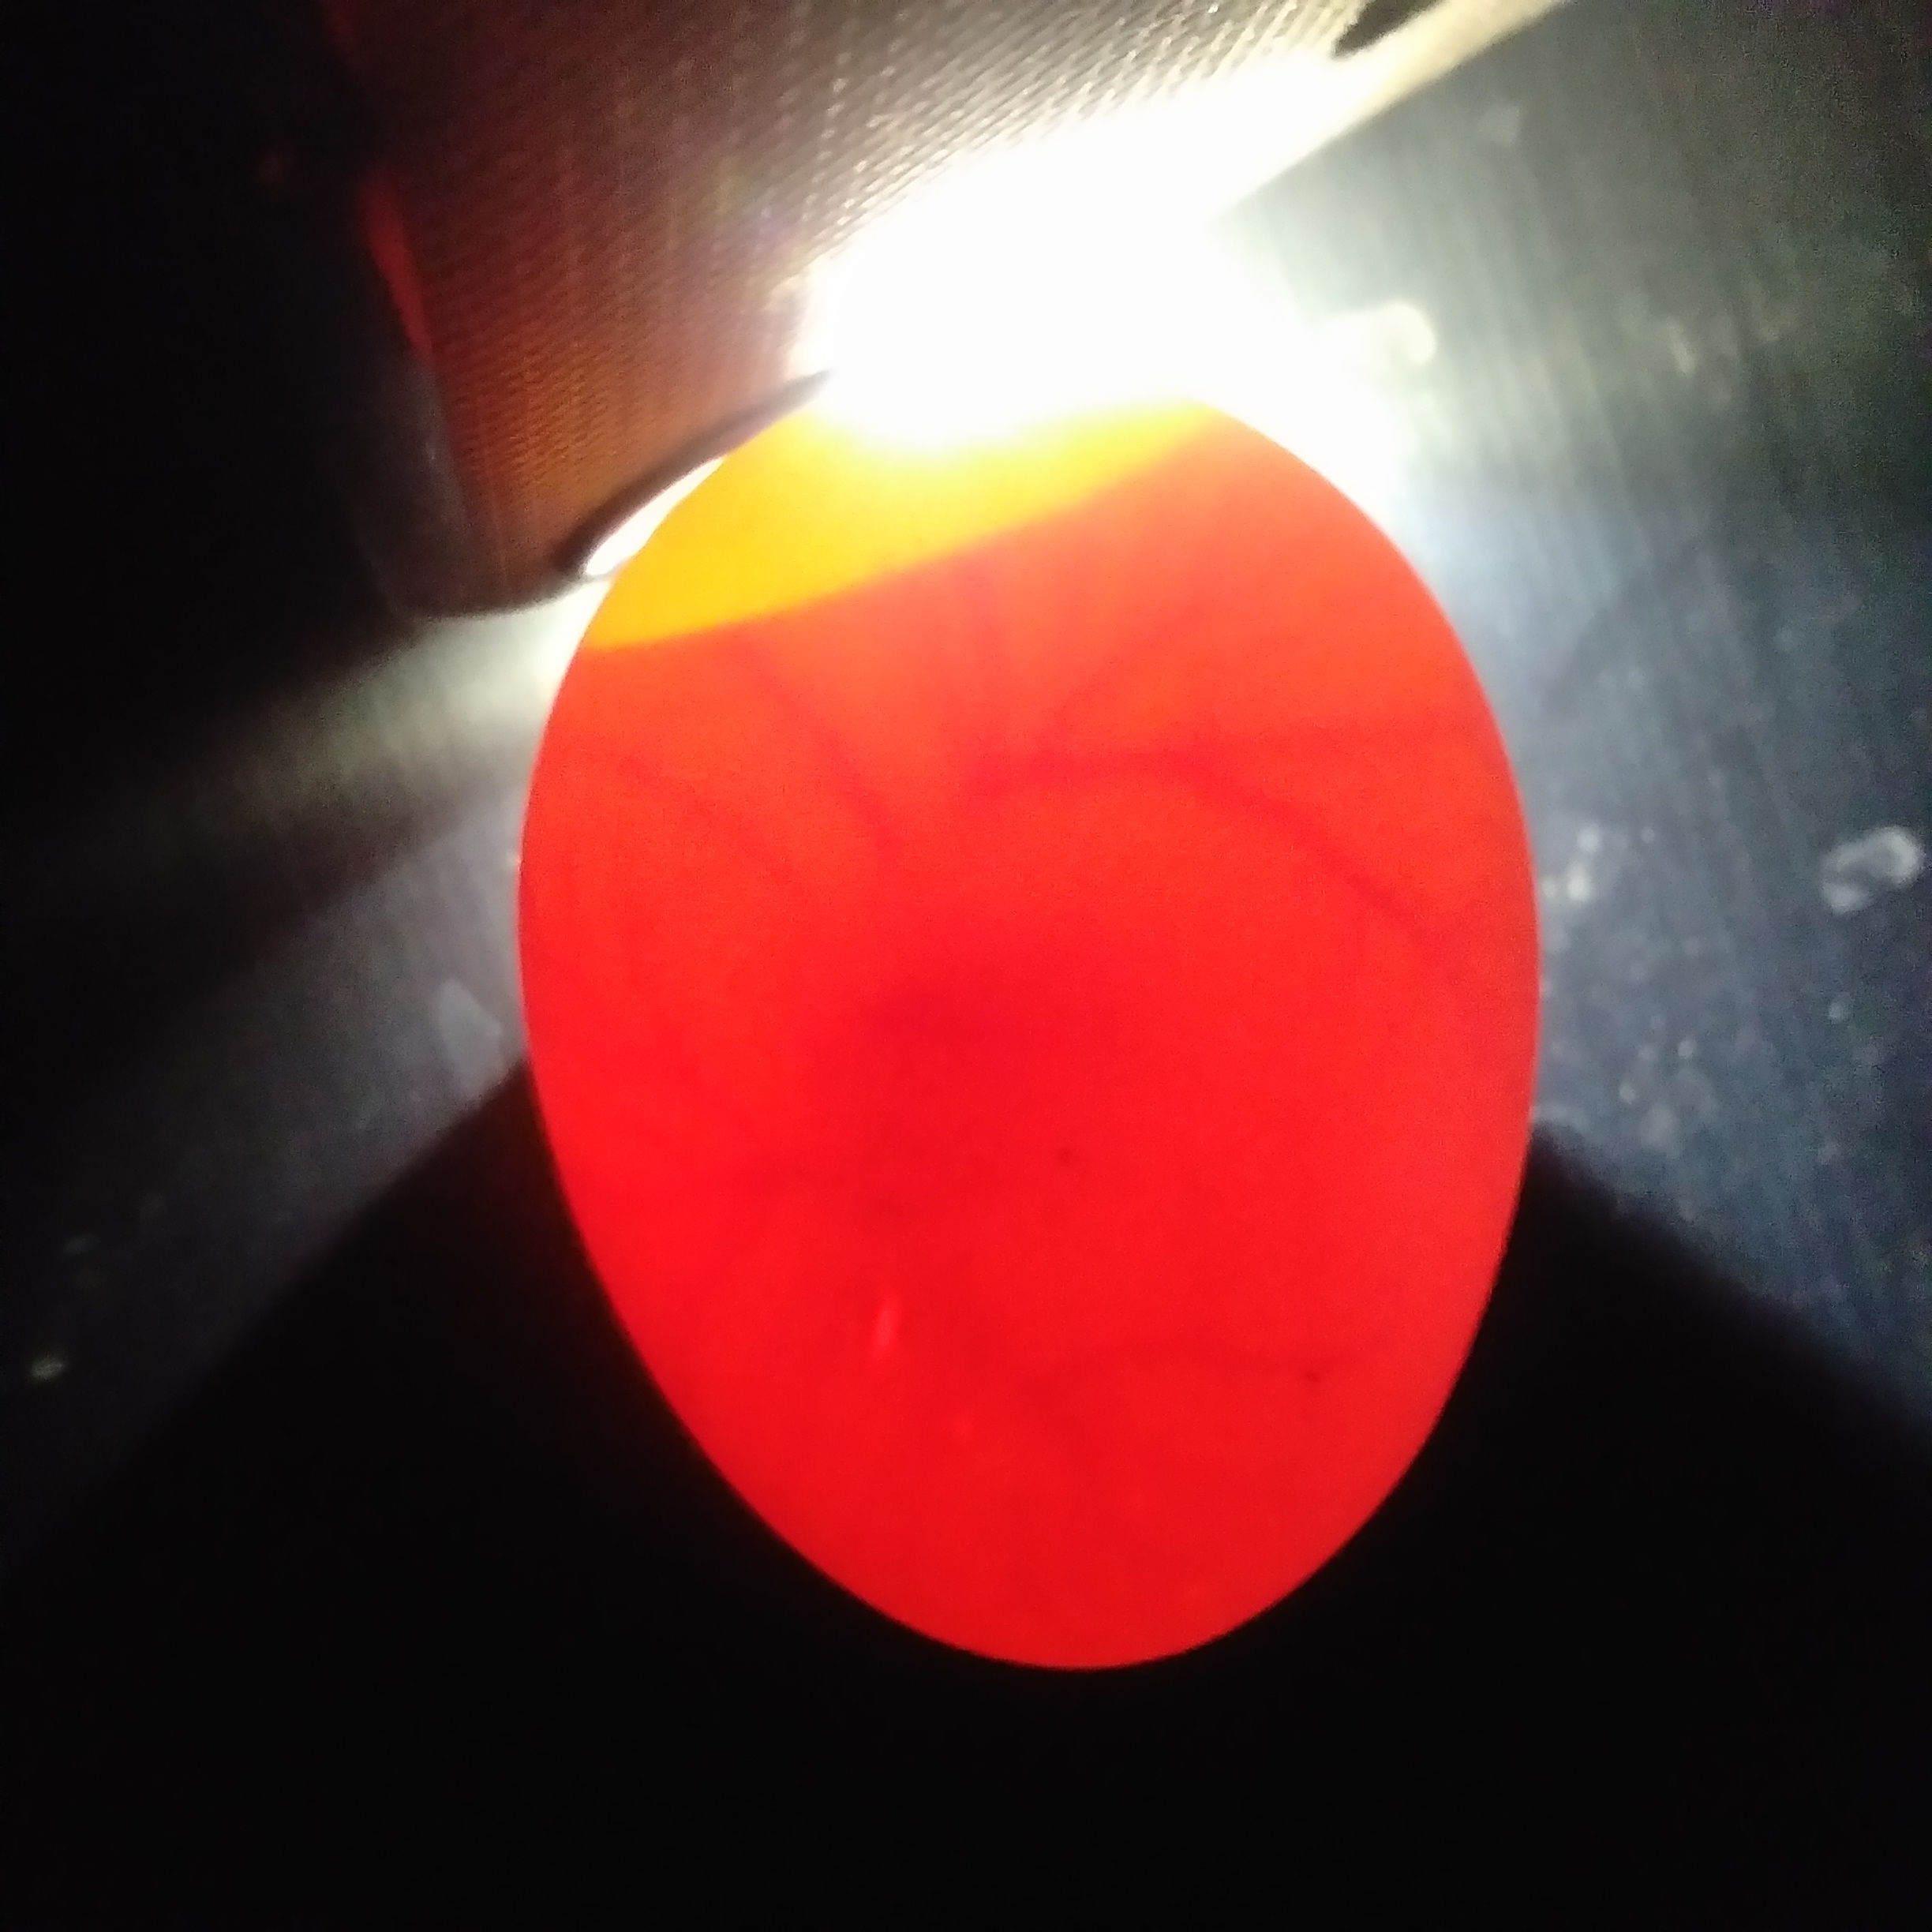bloodcell: (702, 688, 1430, 927), (757, 1200, 1265, 1500)
embryo: (789, 952, 1046, 1152)
